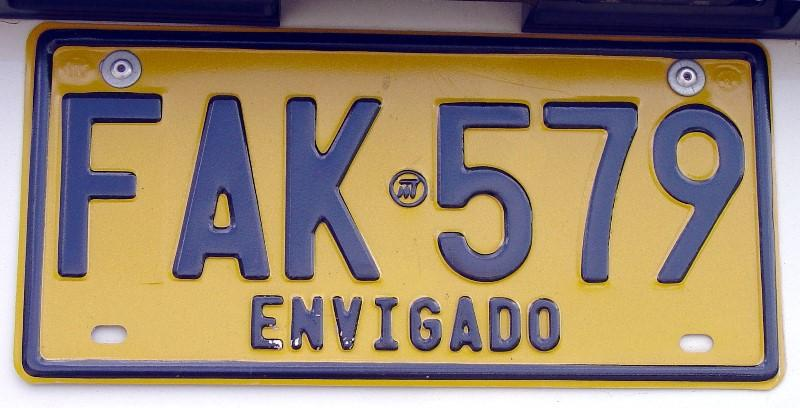placas: (5, 5, 793, 394)
